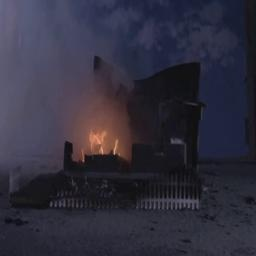fire: (79, 114, 128, 156)
smoke: (0, 0, 133, 118)
